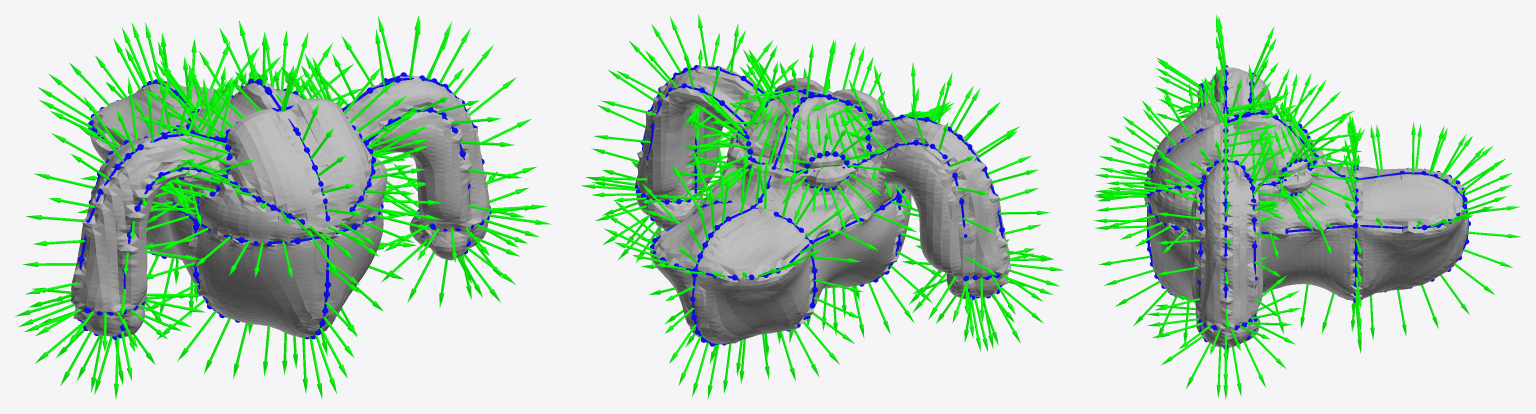
File: scaffolds3d_dog.gltf
3 renders of one model, left to right at view 1: azimuth 30°, elevation 25°; view 2: azimuth 150°, elevation 25°; view 3: azimuth 270°, elevation 25°, orthographic. The views are drawn at different scales.
Size of the model in its own units: 0.9137 by 0.5691 by 0.7851.
